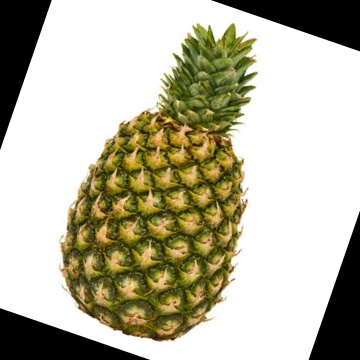Pineapple: (60, 19, 262, 340)
